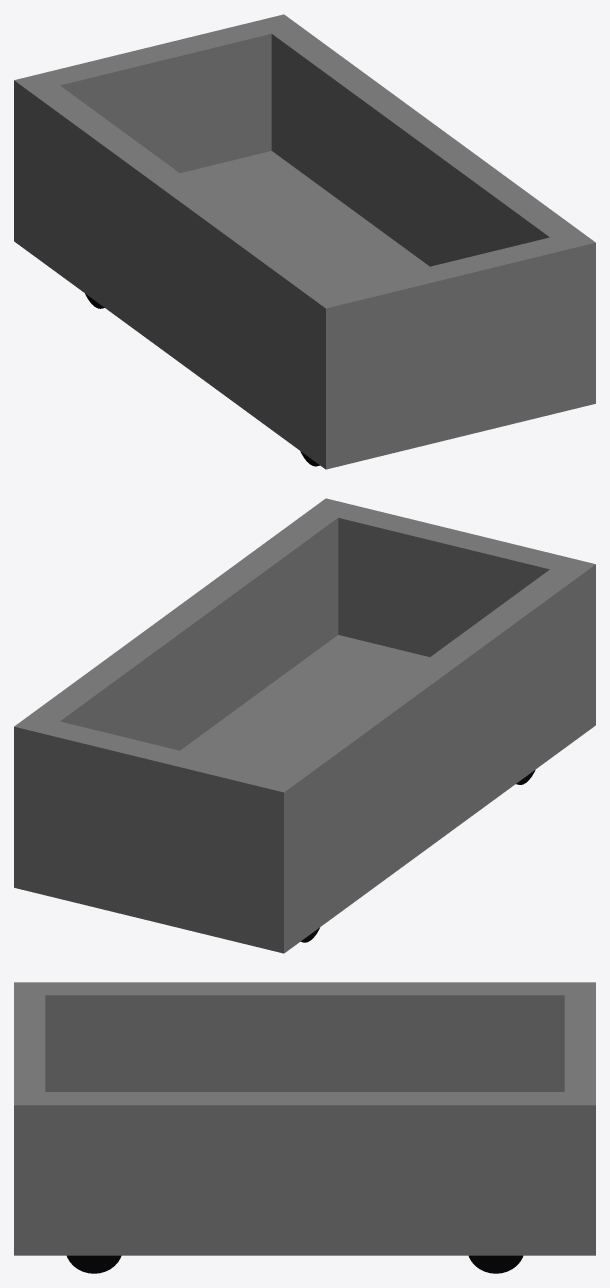
Rendered from train.obj.
The picture shows the model from 3 angles, top to bottom: view 1: azimuth 30°, elevation 25°; view 2: azimuth 150°, elevation 25°; view 3: azimuth 270°, elevation 25°; orthographic projection. The views are drawn at different scales.
Parts seen in each view (by area): view 1: 立方体; view 2: 立方体; view 3: 立方体.
Boxes of the visible parts, x1,y1,x2,y2 form: 立方体: [14, 14, 595, 469]; 立方体: [14, 498, 595, 953]; 立方体: [14, 982, 595, 1273].
Size of the model in its own units: 2 by 1.37 by 4.
Materials: 1 (1 with a texture image).
